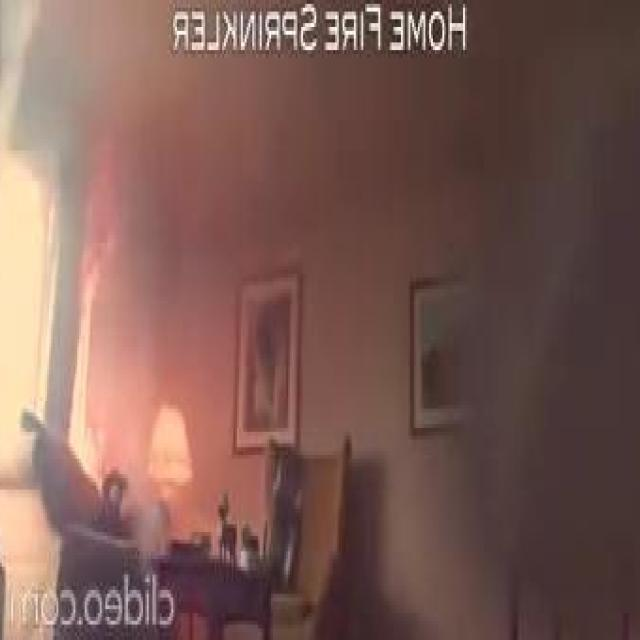fire: (431, 70, 640, 628)
smoke: (68, 150, 130, 474)
